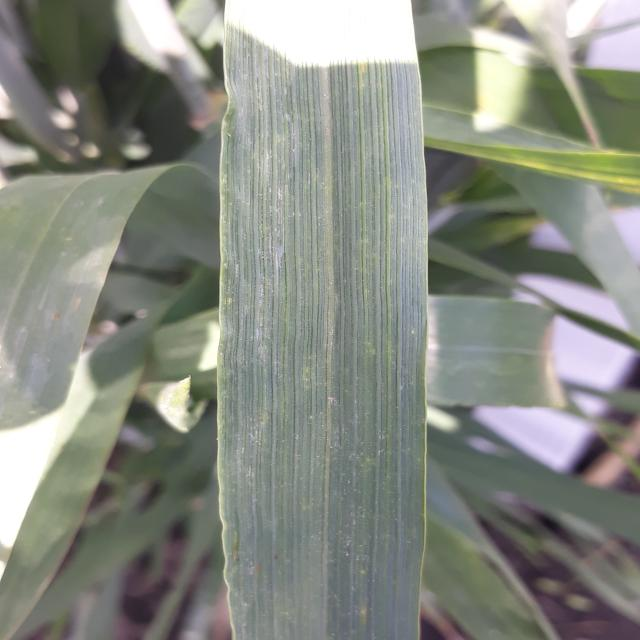orang_rust: (215, 3, 472, 640)
